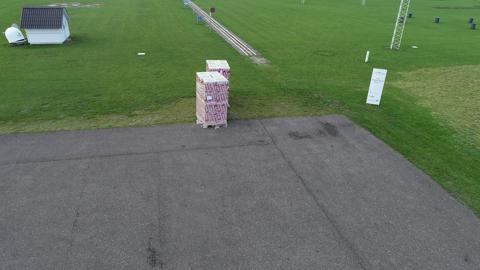RockwoolPallet: (206, 58, 230, 81)
